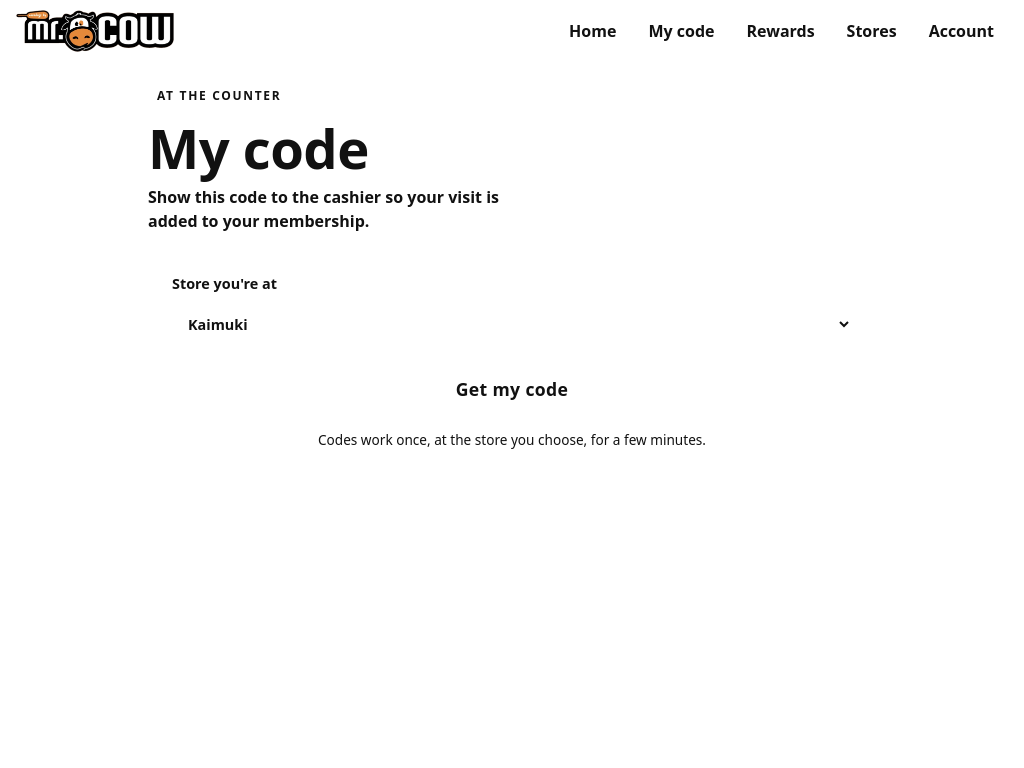
Scenario: four-digit code › explains rate limits in plain words
This screenshot has width=1024, height=768.
Click the button "Get my code" at (512, 389), box [172,362,852,416]
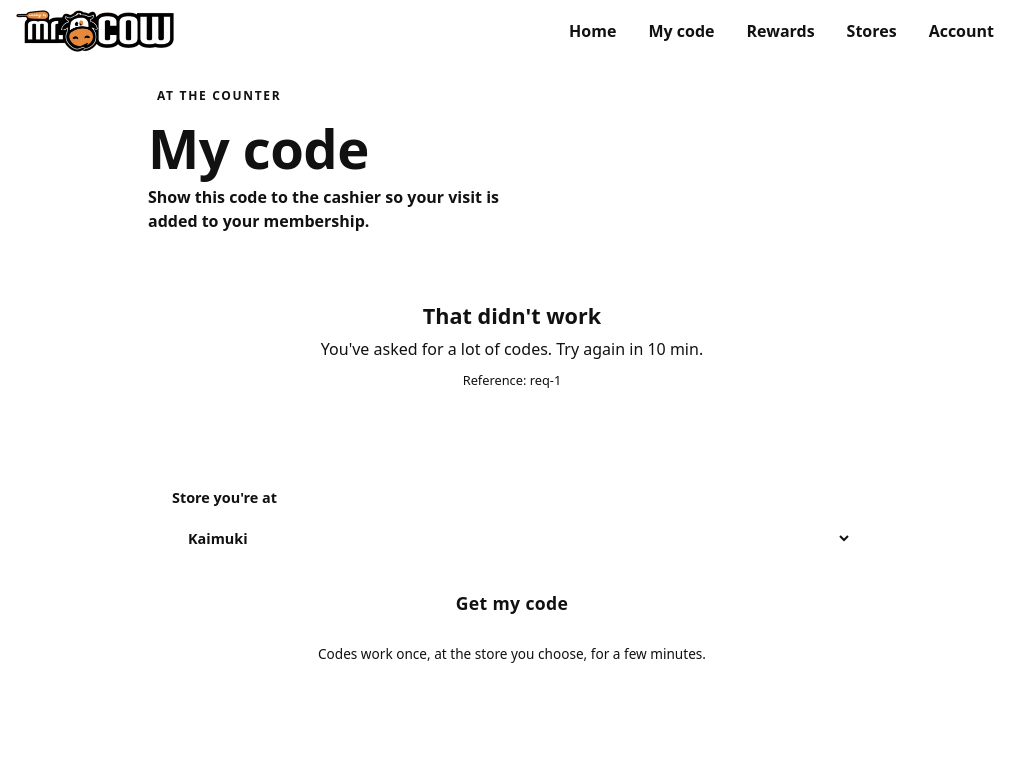
Now the text "You've asked for a lot of codes. Try again in 10 min." is shown, box [321,337,703,361]
